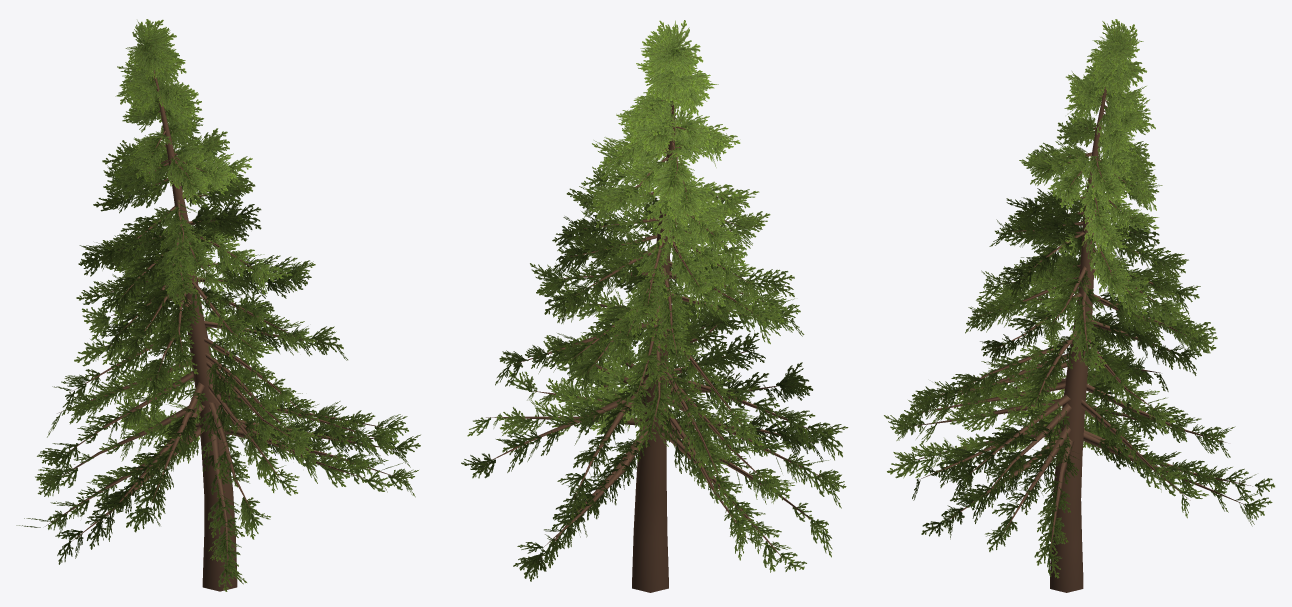
The model's file is pine.glb.
3 renders of one model, left to right at view 1: azimuth 30°, elevation 25°; view 2: azimuth 150°, elevation 25°; view 3: azimuth 270°, elevation 25°, orthographic. The views are drawn at different scales.
Visible parts, largest first — view 1: Leaves_LOD0, Trunk_LOD0; view 2: Leaves_LOD0, Trunk_LOD0; view 3: Leaves_LOD0, Trunk_LOD0.
Part boxes in pixels (x1,y1,x2,y2): Leaves_LOD0: (16,19,420,591); Trunk_LOD0: (45,70,399,591); Leaves_LOD0: (461,20,848,581); Trunk_LOD0: (485,97,821,592); Leaves_LOD0: (884,19,1274,578); Trunk_LOD0: (910,86,1252,592).
Size of what is drawn, in the model's own units: 3.48 by 5.2 by 3.43.
2 materials, 1 textured.
